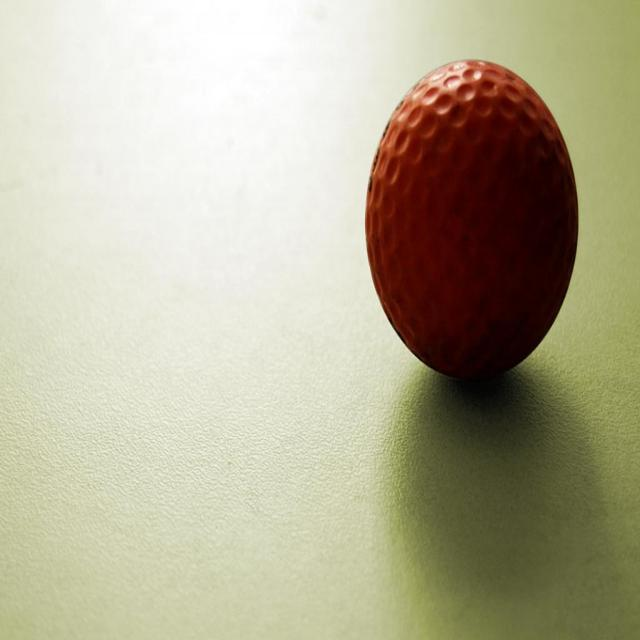GolfBall: (356, 42, 586, 392)
